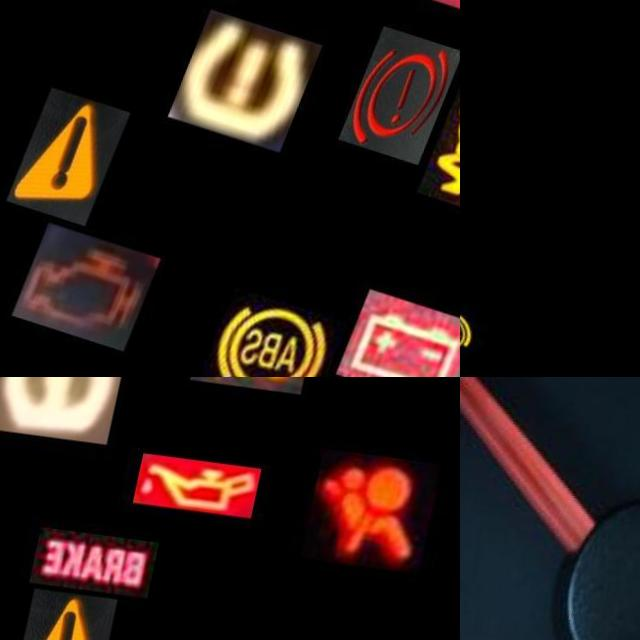Central Warning lamp: (20, 81, 144, 223), (36, 581, 139, 640)
